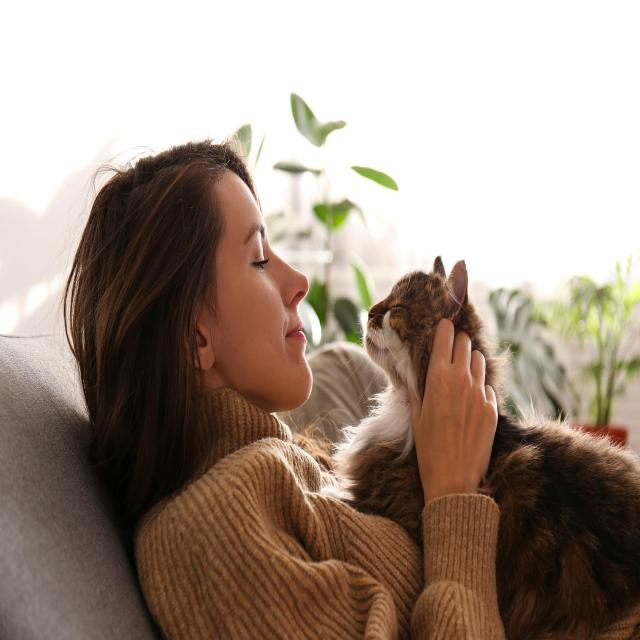Cat: (359, 246, 474, 377)
